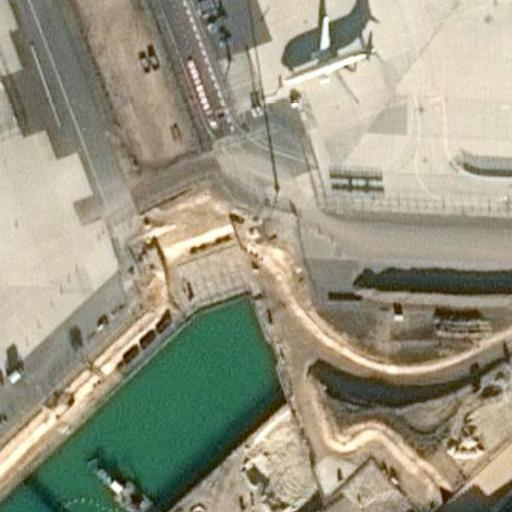Aircraft: (277, 3, 382, 105), (280, 3, 376, 103)
